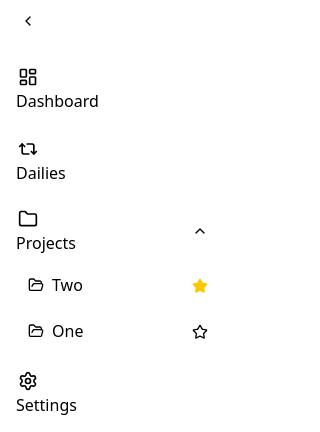
Test: Sidebar behavior › toggles projects nested list with chevron and updates aria attributes
Click to collapse projects
What coordinates should you click on to do the following:
click the button named "Collapse projects"
I would click on:
 (200, 231)
Its box is [188, 219, 212, 243].
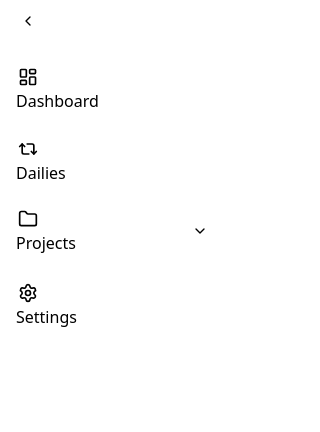
Check: the button named "Expand projects" is collapsed, box [188, 219, 212, 243]
